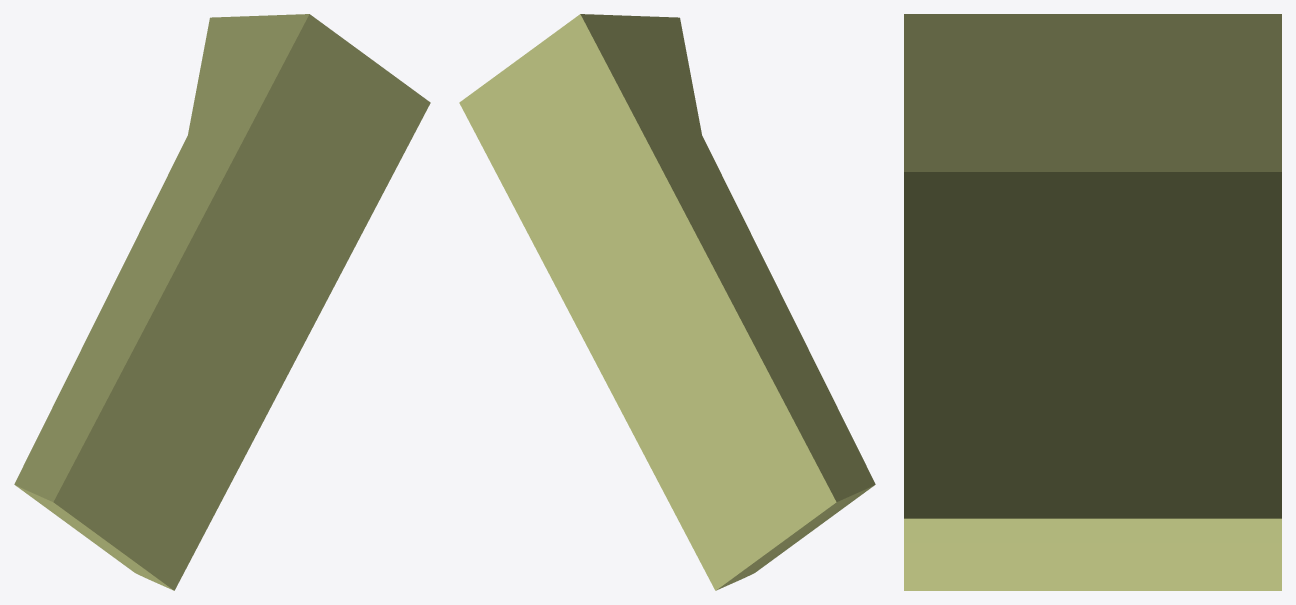
3 views of the same model, side by side, from view 1: azimuth 30°, elevation 25°; view 2: azimuth 150°, elevation 25°; view 3: azimuth 270°, elevation 25° (orthographic). The views are drawn at different scales.
Parts seen in each view (by area): view 1: 0_0_2_0_1_1_0_1_1_0; view 2: 0_0_2_0_1_1_0_1_1_0; view 3: 0_0_2_0_1_1_0_1_1_0.
Part boxes in pixels (bbox=[...]): 0_0_2_0_1_1_0_1_1_0: bbox=[14, 14, 430, 590]; 0_0_2_0_1_1_0_1_1_0: bbox=[459, 14, 875, 590]; 0_0_2_0_1_1_0_1_1_0: bbox=[904, 14, 1281, 590].
Bounding box in the file's own units: 12.67 × 18.3 × 9.
